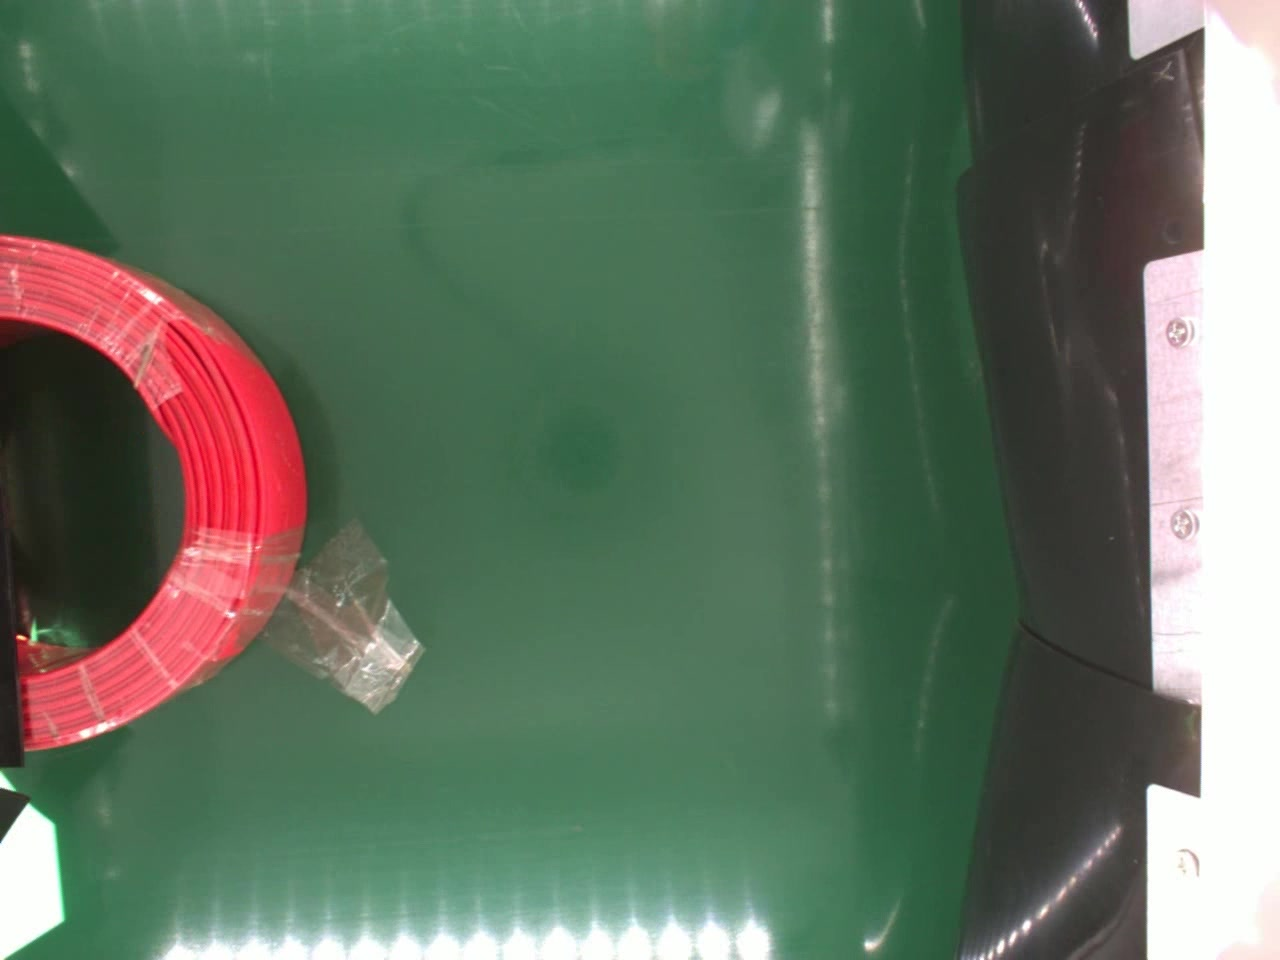red: (0, 233, 312, 750)
